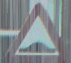Speed Breaker ahead: (6, 5, 61, 53)
